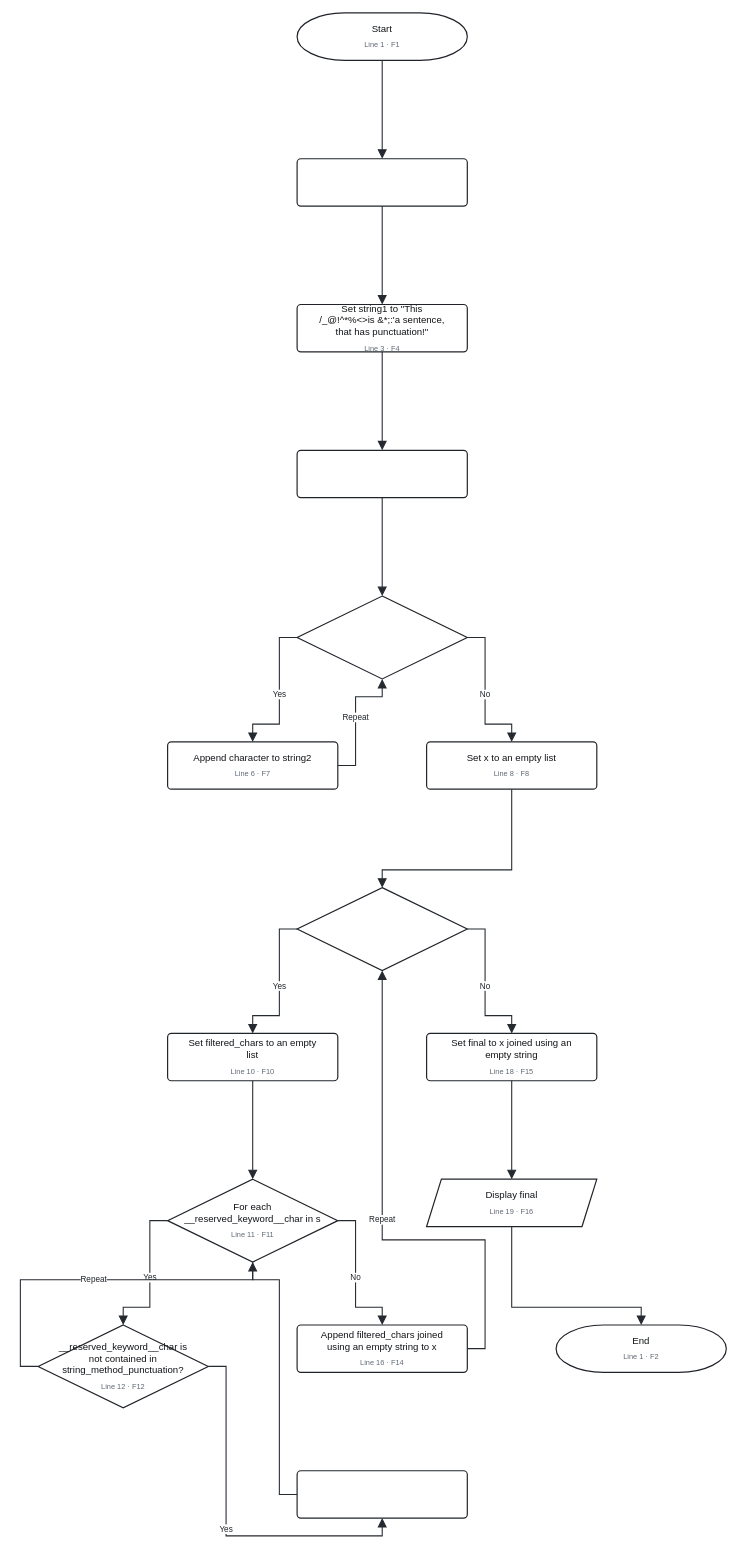
The diagram is 740 pixels wide and 1558 high, and some of its shapes have lost their labels. Each missing label, with the centre of its shape:
"Append __reserved_keyword__char to filtered_chars Line 13 · F13" belongs at [382,1494].
"For each character in string1 Line 5 · F6" belongs at [382,637].
"For each s in string2 Line 9 · F9" belongs at [382,929].
"Import module string Line 1 · F3" belongs at [382,182].
"Set string2 to an empty list Line 4 · F5" belongs at [382,473].
